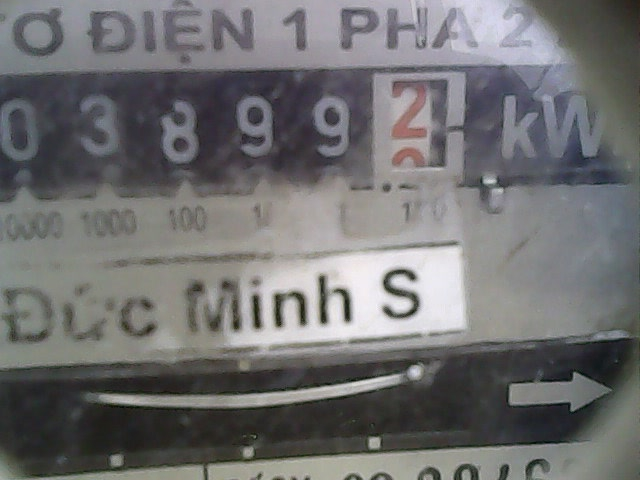phy_plate: (1, 71, 475, 196)
